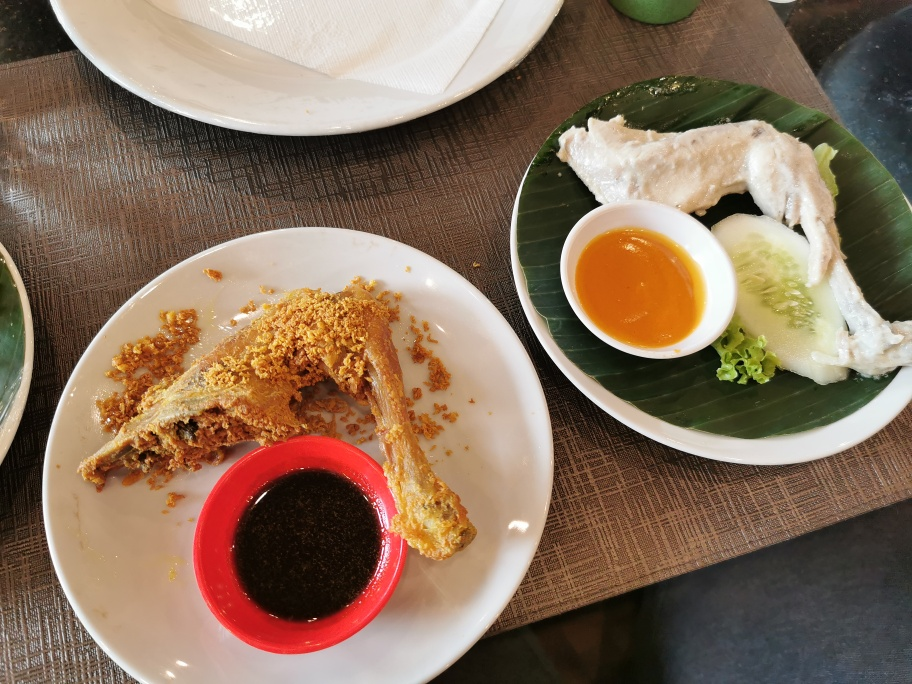ayam goreng: (77, 281, 472, 568)
ayam pop: (552, 105, 912, 371)
extra: (550, 198, 850, 387)
kecap: (189, 431, 406, 641)
